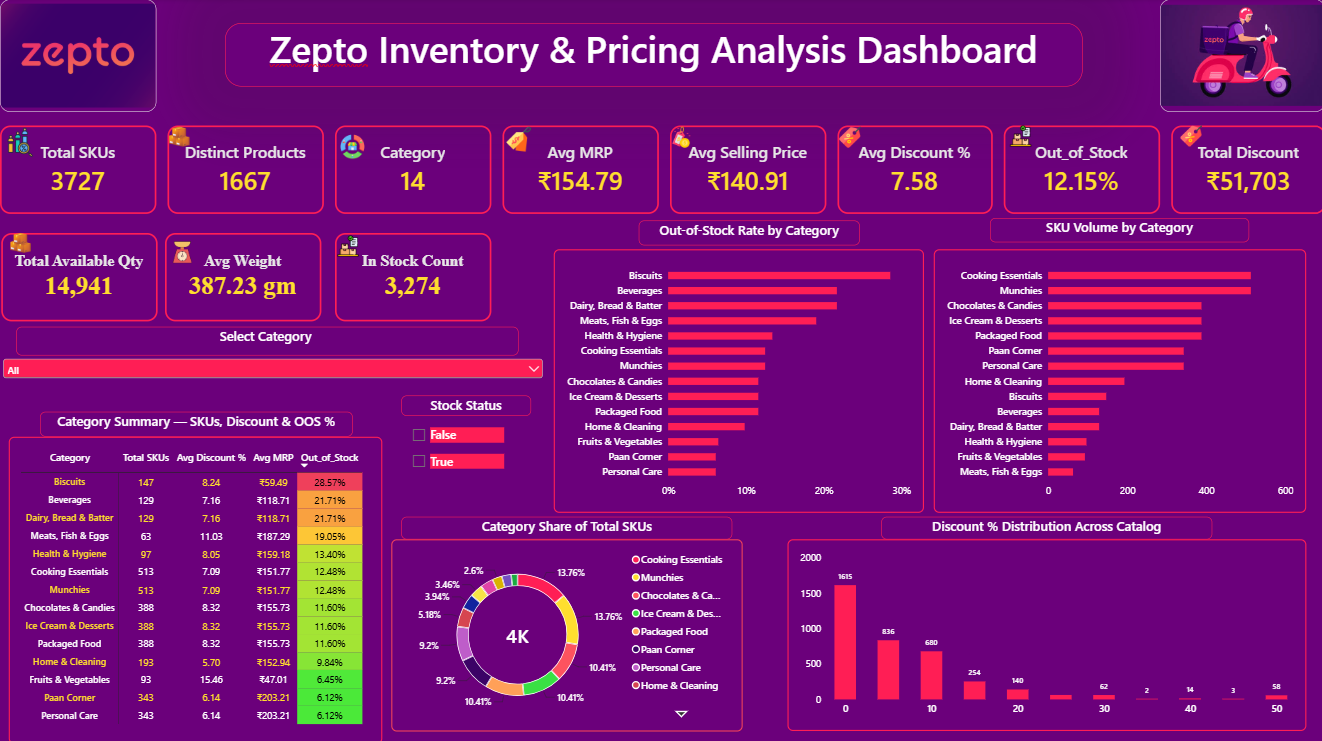

This screenshot's page, from the dashboard's own definition file:
{"tool":"powerbi","page":{"name":"Zepto Dashboard","canvas":[1920,1080],"ordinal":0},"visuals":[{"type":"textbox","box":[325.7,36.2,1241.4,92.3],"z":0},{"type":"cardVisual","fields":{"Data":["public zepto.Avg MRP"]},"box":[727.6,184.6,226.6,128.3],"z":0,"group":"g1"},{"type":"image","box":[0,1.8,226.2,162.9],"z":1000},{"type":"image","box":[1679.4,1.8,240.7,162.9],"z":2000},{"type":"group","id":"g1","title":"Group 1","box":[0,184.6,1920,128.3],"z":3000},{"type":"cardVisual","fields":{"Data":["public zepto.Avg Selling Price"]},"box":[970.1,184.6,226.6,128.3],"z":4000,"group":"g1"},{"type":"clusteredBarChart","title":"SKU Volume vs. Avg Discount % by Category","fields":{"Category":["public zepto.category"],"Y":["public zepto.Total SKUs"]},"box":[1351.8,363.8,539.3,381.8],"z":4000},{"type":"clusteredColumnChart","fields":{"Category":["public zepto.discountpercent (bins)"],"Y":["public zepto.Total SKUs"]},"box":[1140.1,783.6,751.3,277.9],"z":4000},{"type":"cardVisual","fields":{"Data":["public zepto.Avg Discount %"]},"box":[1212.6,184.6,224.5,128.3],"z":5000,"group":"g1"},{"type":"textbox","box":[1275.8,751,479.6,32.9],"z":5000},{"type":"cardVisual","fields":{"Data":["public zepto.Distinct Products"]},"box":[242.5,184.6,226.6,128.3],"z":6000,"group":"g1"},{"type":"textbox","box":[1433.3,318.5,375.3,35.6],"z":6000},{"type":"group","id":"g2","title":"Group 5","box":[566.4,751,508.5,311.3],"z":6000},{"type":"cardVisual","fields":{"Data":["public zepto.Category Count"]},"box":[485,184.6,226.6,128.3],"z":7000,"group":"g1"},{"type":"clusteredBarChart","title":"SKU Volume vs. Avg Discount % by Category","fields":{"Category":["public zepto.category"],"Y":["public zepto.Out_of_Stock"]},"box":[801.7,363.6,535.7,381.8],"z":7000},{"type":"slicer","fields":{"Values":["public zepto.category"]},"box":[0,517.6,790.8,70.6],"z":7000},{"type":"cardVisual","fields":{"Data":["public zepto.Total SKUs"]},"box":[0,184.6,226.6,128.3],"z":8000,"group":"g1"},{"type":"pivotTable","fields":{"Rows":["public zepto.category"],"Values":["public zepto.Total SKUs","public zepto.Avg Discount %","public zepto.Avg MRP","public zepto.Out_of_Stock"]},"box":[12.7,635.2,541.1,445.2],"z":8000},{"type":"cardVisual","fields":{"Data":["public zepto.Out_of_Stock"]},"box":[1453,184.6,226.6,128.3],"z":9000,"group":"g1"},{"type":"textbox","box":[57.9,599,452.4,36.2],"z":9000},{"type":"cardVisual","fields":{"Data":["public zepto.Total Discount Value"]},"box":[1695.5,184.6,224.5,128.3],"z":10000,"group":"g1"},{"type":"textbox","box":[924.7,322.1,320.4,36.2],"z":10000},{"type":"textbox","box":[23.5,475.9,727.5,41.6],"z":10000},{"type":"donutChart","fields":{"Category":["public zepto.category"],"Y":["public zepto.Total SKUs"]},"box":[566.4,783.6,508.5,278.7],"z":10000,"group":"g2"},{"type":"image","box":[1679.4,184.6,90.5,30.8],"z":11000},{"type":"image","box":[1453.2,184.6,48.9,30.8],"z":12000},{"type":"image","box":[1185.3,186.4,90.5,30.8],"z":13000},{"type":"textbox","box":[580.9,751,479.6,32.9],"z":13000,"group":"g2"},{"type":"image","box":[711.2,186.4,79.6,36.2],"z":14000},{"type":"image","box":[946.5,186.4,79.6,30.8],"z":15000},{"type":"slicer","fields":{"Values":["public zepto.outofstock"]},"box":[589.7,613.9,139.7,128.1],"z":15000,"group":"g3"},{"type":"image","box":[465.1,197.3,90.5,36.2],"z":16000},{"type":"image","box":[242.5,186.4,34.4,29],"z":17000},{"type":"textbox","box":[580.9,575.5,188.2,29.9],"z":17000,"group":"g3"},{"type":"image","box":[0,184.6,57.9,48.9],"z":18000},{"type":"cardVisual","fields":{"Data":["public zepto.Total Available Qty"]},"box":[1.8,340.2,226.6,128.3],"z":19000},{"type":"cardVisual","fields":{"Data":["public zepto.Avg Weight"]},"box":[238.9,340.2,226.6,128.3],"z":20000},{"type":"cardVisual","fields":{"Data":["public zepto.In Stock Count"]},"box":[485,340.2,226.6,128.3],"z":21000},{"type":"image","box":[479.6,343.8,48.9,30.8],"z":22000},{"type":"image","box":[12.7,340.2,34.4,29],"z":23000},{"type":"image","box":[209.9,340.2,108.6,52.5],"z":24000},{"type":"group","id":"g3","title":"Group 2","box":[580.9,575.5,188.2,166.5],"z":25000}]}

Visuals, with their boxes in screenshot pixels (x1, y1, x2, y2), scaled from the page's 1920x1080 canvas onto the 1322x741 screenshot:
textbox: [224, 25, 1079, 88]
cardVisual - public zepto.Avg MRP: [501, 127, 657, 215]
image: [0, 1, 156, 113]
image: [1156, 1, 1321, 113]
"Group 1" group: [0, 127, 1321, 215]
cardVisual - public zepto.Avg Selling Price: [668, 127, 824, 215]
"SKU Volume vs. Avg Discount % by Category" clusteredBarChart: [931, 250, 1302, 512]
clusteredColumnChart - public zepto.discountpercent (bins) x public zepto.Total SKUs: [785, 538, 1302, 728]
cardVisual - public zepto.Avg Discount %: [835, 127, 990, 215]
textbox: [878, 515, 1209, 538]
cardVisual - public zepto.Distinct Products: [167, 127, 323, 215]
textbox: [987, 219, 1245, 243]
"Group 5" group: [390, 515, 740, 729]
cardVisual - public zepto.Category Count: [334, 127, 490, 215]
"SKU Volume vs. Avg Discount % by Category" clusteredBarChart: [552, 249, 921, 511]
slicer - public zepto.category: [0, 355, 544, 404]
cardVisual - public zepto.Total SKUs: [0, 127, 156, 215]
pivotTable - public zepto.category x public zepto.Total SKUs: [9, 436, 381, 740]
cardVisual - public zepto.Out_of_Stock: [1000, 127, 1156, 215]
textbox: [40, 411, 351, 436]
cardVisual - public zepto.Total Discount Value: [1167, 127, 1321, 215]
textbox: [637, 221, 857, 246]
textbox: [16, 327, 517, 355]
donutChart - public zepto.category x public zepto.Total SKUs: [390, 538, 740, 729]
image: [1156, 127, 1219, 148]
image: [1001, 127, 1034, 148]
image: [816, 128, 878, 149]
textbox: [400, 515, 730, 538]
image: [490, 128, 544, 153]
image: [652, 128, 707, 149]
slicer - public zepto.outofstock: [406, 421, 502, 509]
image: [320, 135, 383, 160]
image: [167, 128, 191, 148]
textbox: [400, 395, 530, 415]
image: [0, 127, 40, 160]
cardVisual - public zepto.Total Available Qty: [1, 233, 157, 321]
cardVisual - public zepto.Avg Weight: [164, 233, 321, 321]
cardVisual - public zepto.In Stock Count: [334, 233, 490, 321]
image: [330, 236, 364, 257]
image: [9, 233, 32, 253]
image: [145, 233, 219, 269]
"Group 2" group: [400, 395, 530, 509]
